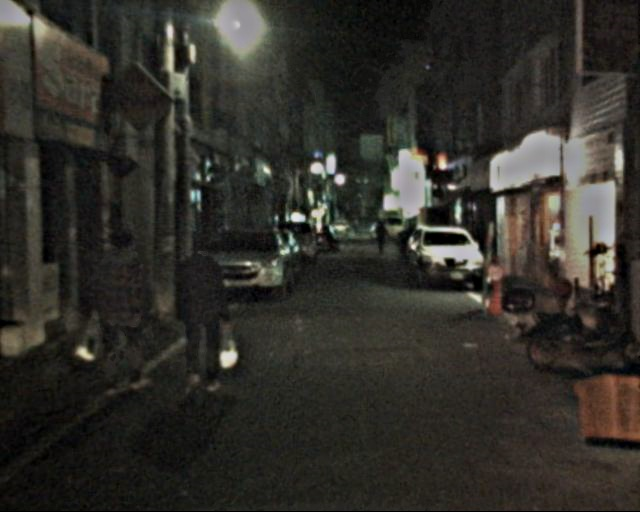person: (87, 227, 154, 393), (168, 233, 233, 396), (372, 220, 389, 257)
